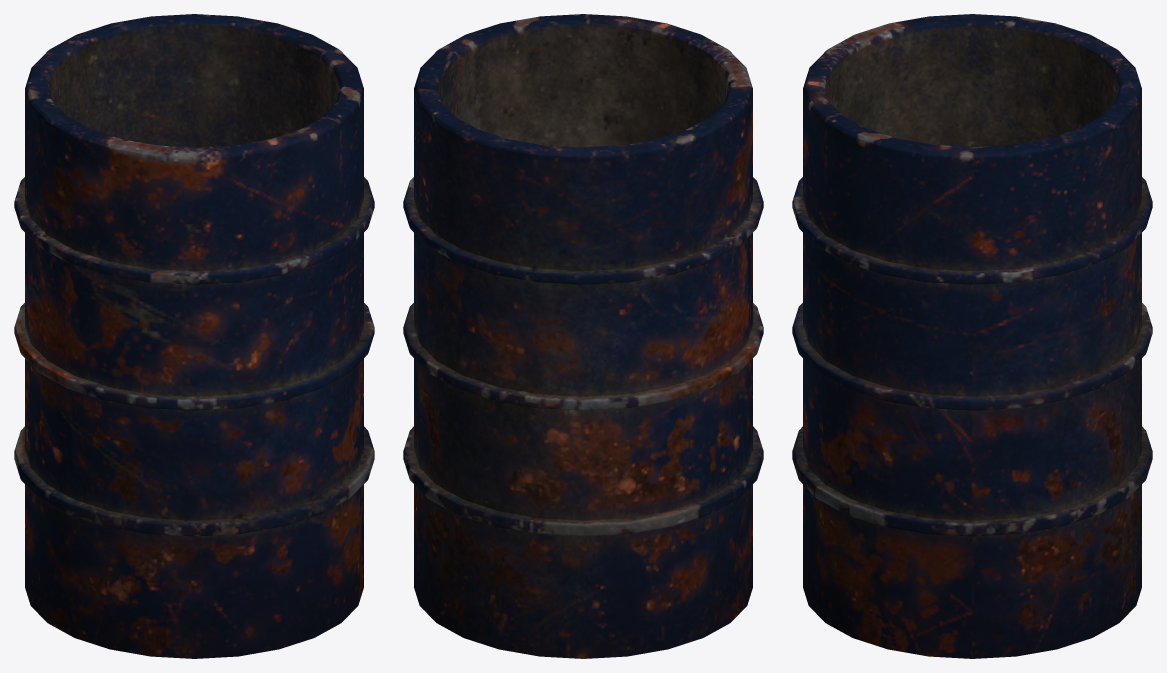
The model's file is SM_Misc_LP_pCylinder4.fbx.
3 renders of one model, left to right at view 1: azimuth 30°, elevation 25°; view 2: azimuth 150°, elevation 25°; view 3: azimuth 270°, elevation 25°, orthographic.
Parts seen in each view (by area): view 1: SM_Misc_LP_pCylinder4_LOD0; view 2: SM_Misc_LP_pCylinder4_LOD0; view 3: SM_Misc_LP_pCylinder4_LOD0.
Part boxes in pixels (x1=…): SM_Misc_LP_pCylinder4_LOD0: x1=14, y1=14, x2=374, y2=658; SM_Misc_LP_pCylinder4_LOD0: x1=403, y1=14, x2=763, y2=658; SM_Misc_LP_pCylinder4_LOD0: x1=792, y1=14, x2=1152, y2=658.
Bounding box in the file's own units: 64.88 × 64.88 × 100.
Materials: 1 (1 with a texture image).
